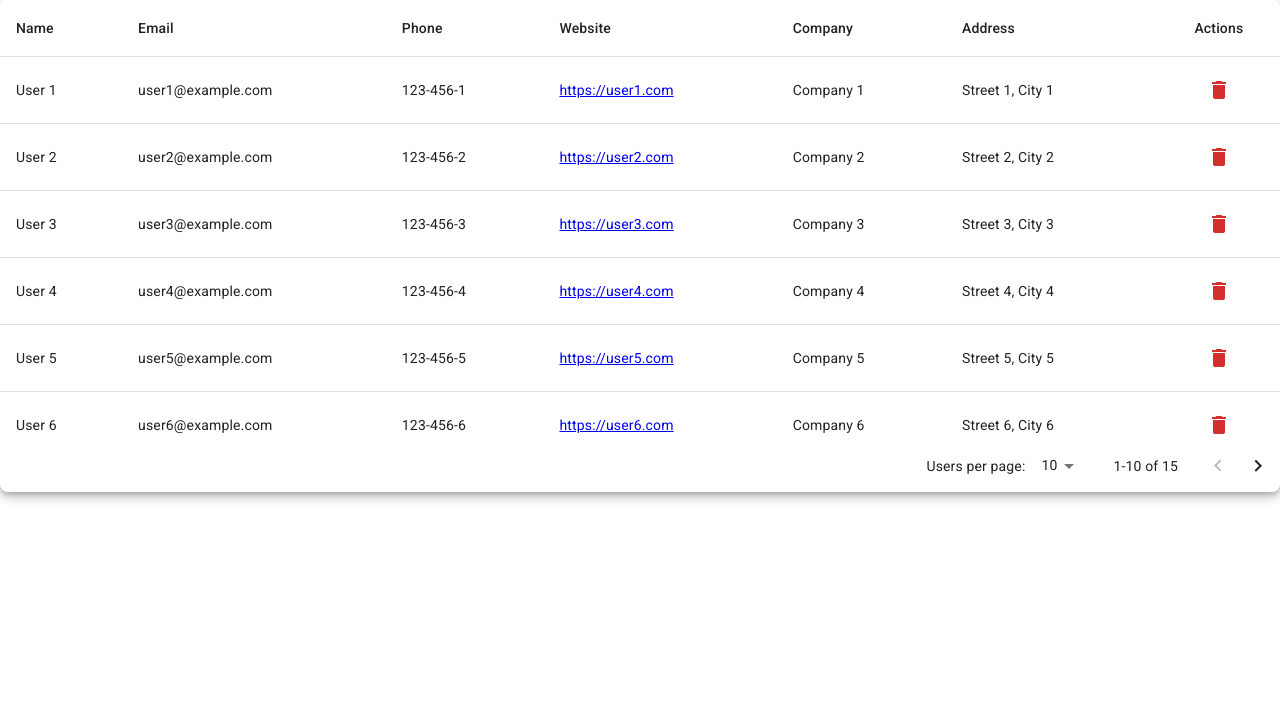
Scenario: UserTable Component › opens modal when clicking on a user row
Click the text "User 1" at (61, 90), box top-left (0, 57), bottom-right (122, 124)
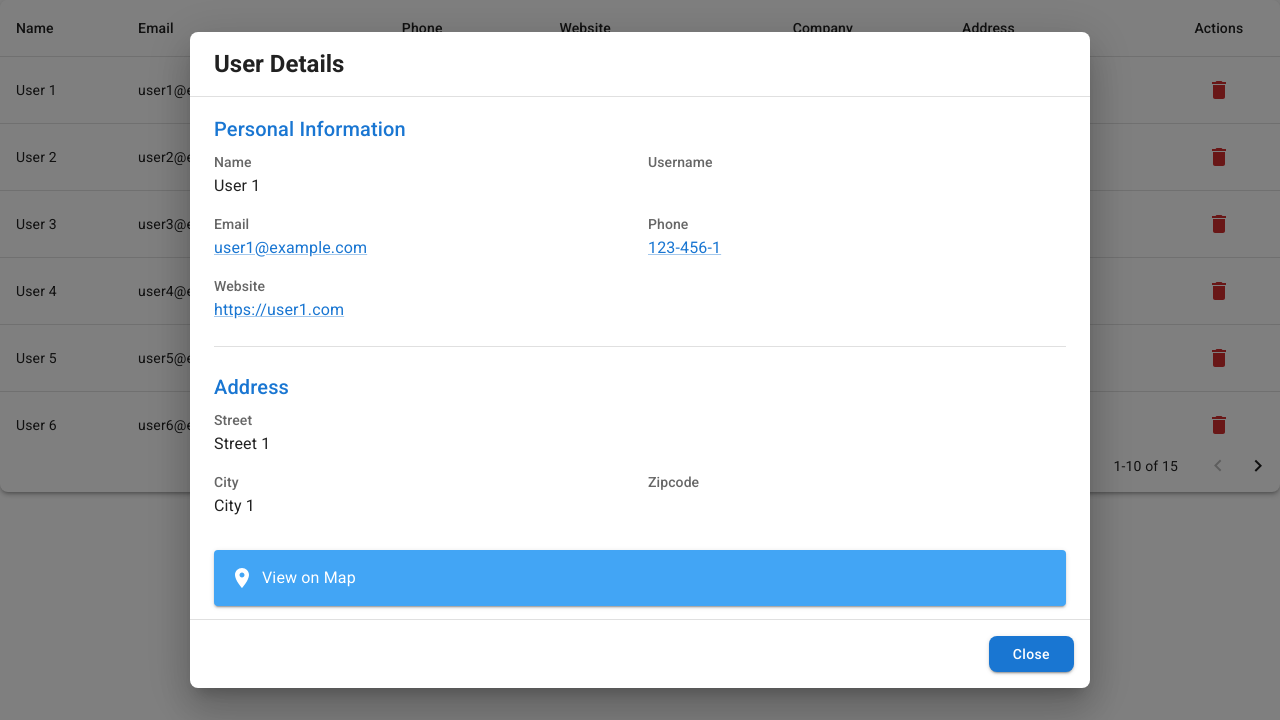
Expected: the text "User Details" is shown, top-left (214, 50), bottom-right (344, 78)
Expected: the heading "Personal Information" is shown, top-left (214, 117), bottom-right (406, 141)
